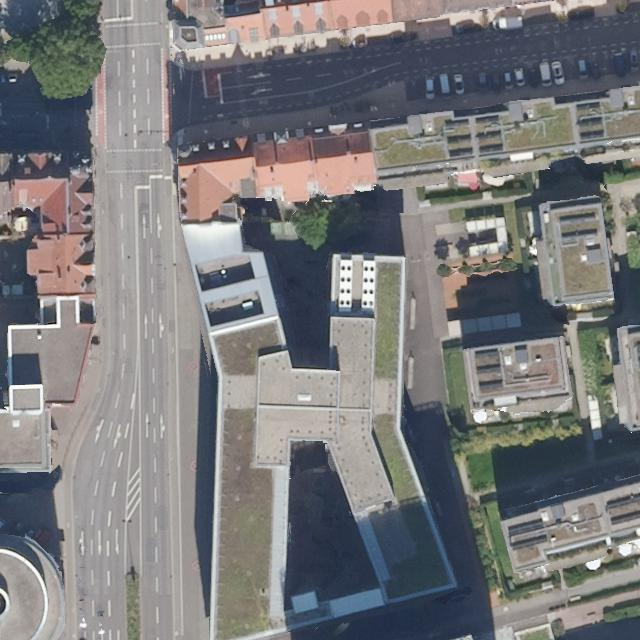PV: (508, 520, 545, 538), (510, 535, 548, 552), (605, 495, 639, 512), (561, 228, 598, 243), (559, 212, 596, 226), (610, 511, 639, 527), (476, 129, 501, 142), (576, 100, 601, 113), (577, 116, 601, 129), (476, 114, 499, 127), (479, 378, 502, 391), (475, 349, 498, 362), (445, 118, 468, 130), (448, 133, 471, 145), (480, 142, 503, 154), (581, 128, 604, 140), (478, 363, 501, 374), (450, 147, 472, 158)
